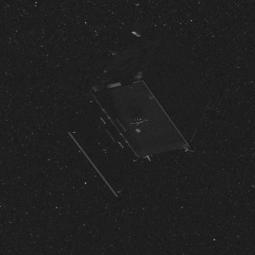proba_2: (74, 38, 193, 201)
